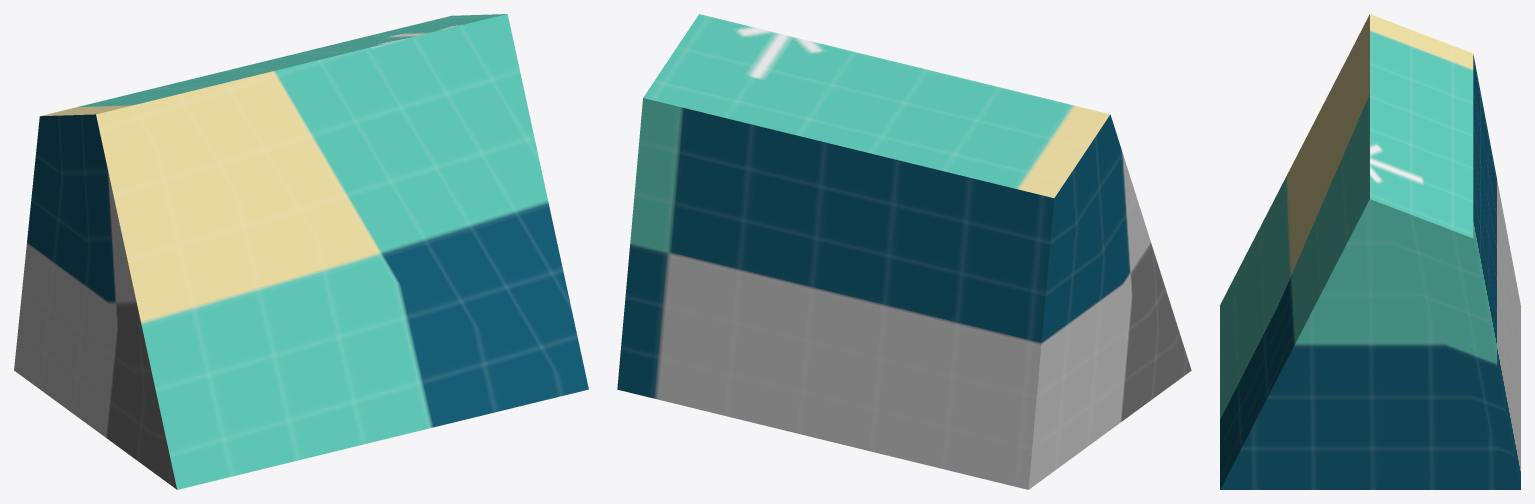
The model's file is deskphoto.glb.
3 views of the same model, side by side, from view 1: azimuth 30°, elevation 25°; view 2: azimuth 150°, elevation 25°; view 3: azimuth 270°, elevation 25° (orthographic). The views are drawn at different scales.
Visible parts, largest first — view 1: col_deskphoto; view 2: col_deskphoto; view 3: col_deskphoto.
Boxes of the visible parts, box(x1,y1,x2,y2) form: col_deskphoto: box(14, 14, 588, 489); col_deskphoto: box(617, 14, 1191, 489); col_deskphoto: box(1220, 14, 1520, 489).
Size of the model in its own units: 0.2907 by 0.2132 by 0.1997.
Materials: 1 (1 with a texture image).
